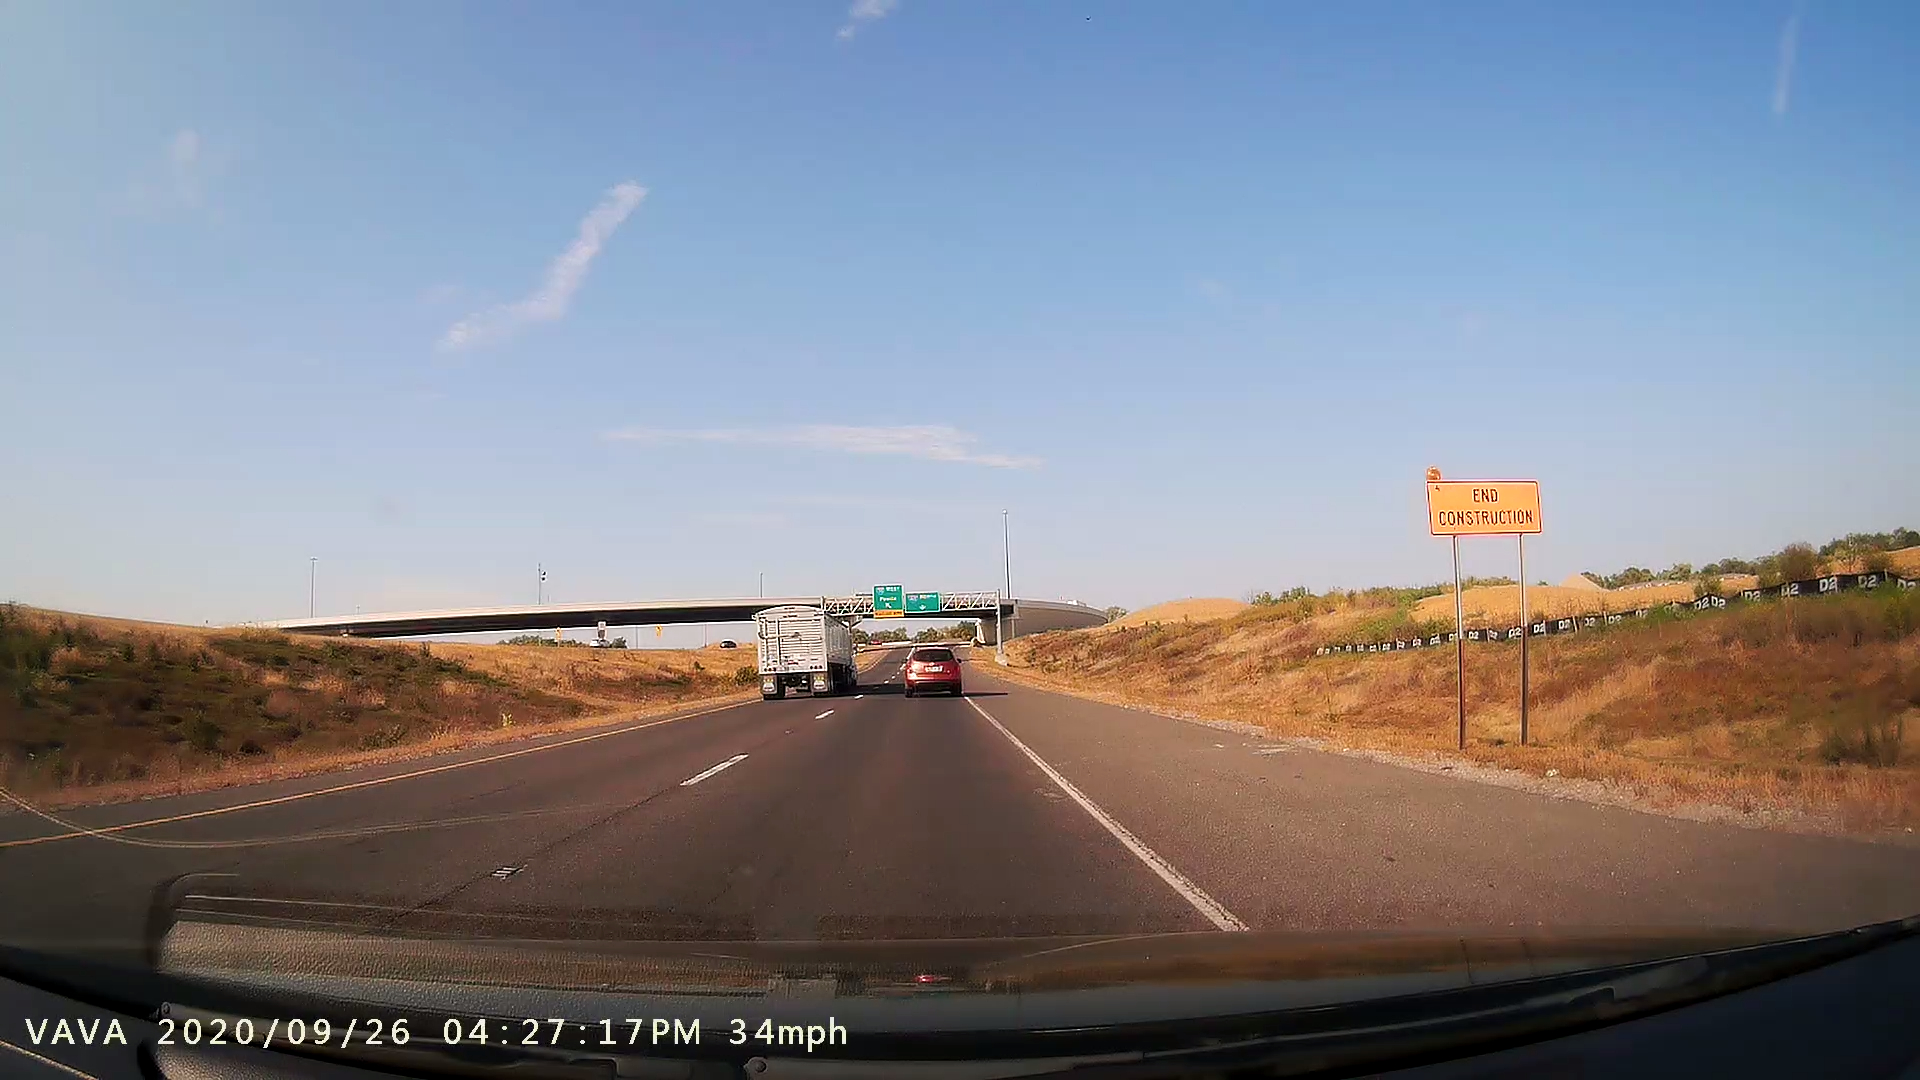ttcs_end_const: (1402, 451, 1565, 752)
